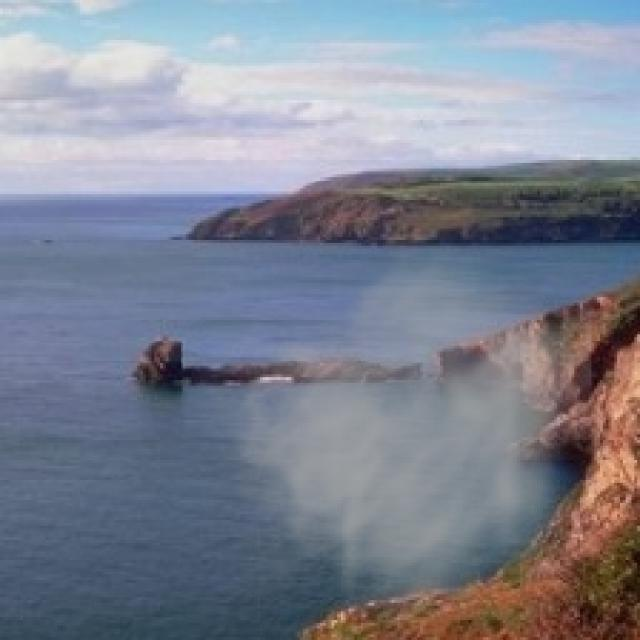smoke: (192, 232, 592, 637)
